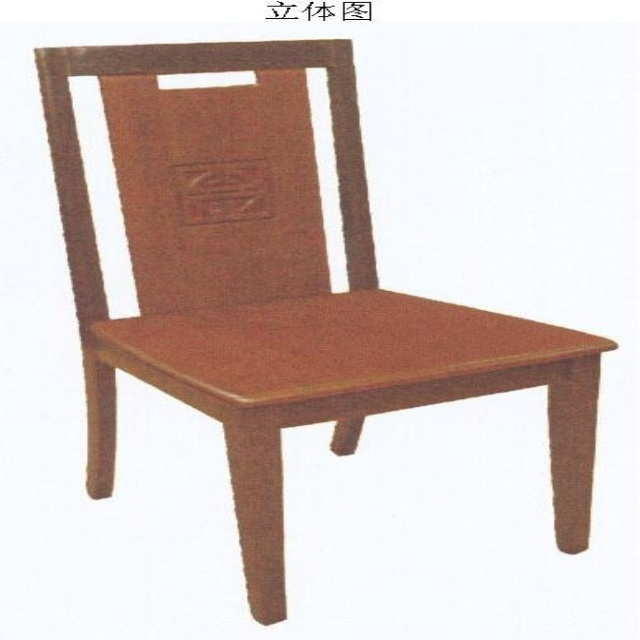obstacle: (36, 39, 614, 624)
